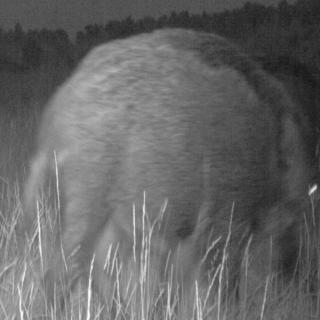Pig: (33, 32, 320, 320)
